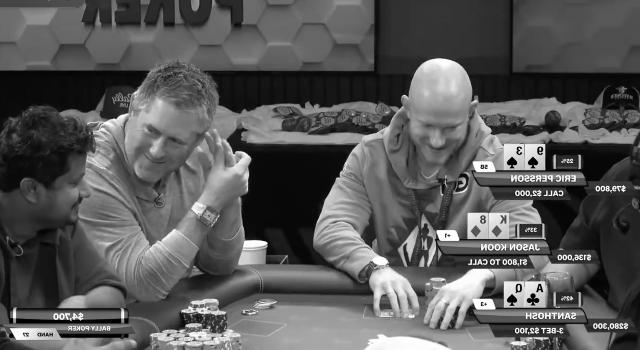3S: (504, 144, 524, 170)
8D: (469, 214, 487, 238)
9S: (526, 146, 544, 170)
AC: (525, 282, 545, 308)
KD: (489, 214, 509, 238)
QS: (504, 282, 524, 308)
